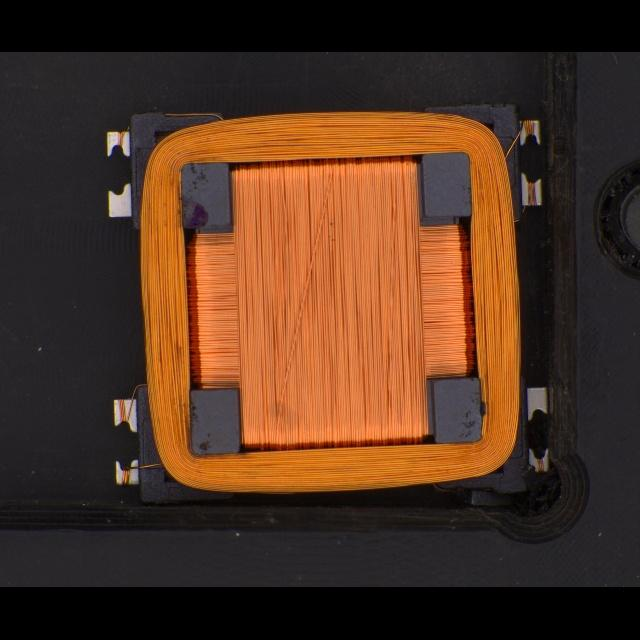Winding_Z: (122, 108, 524, 500)
